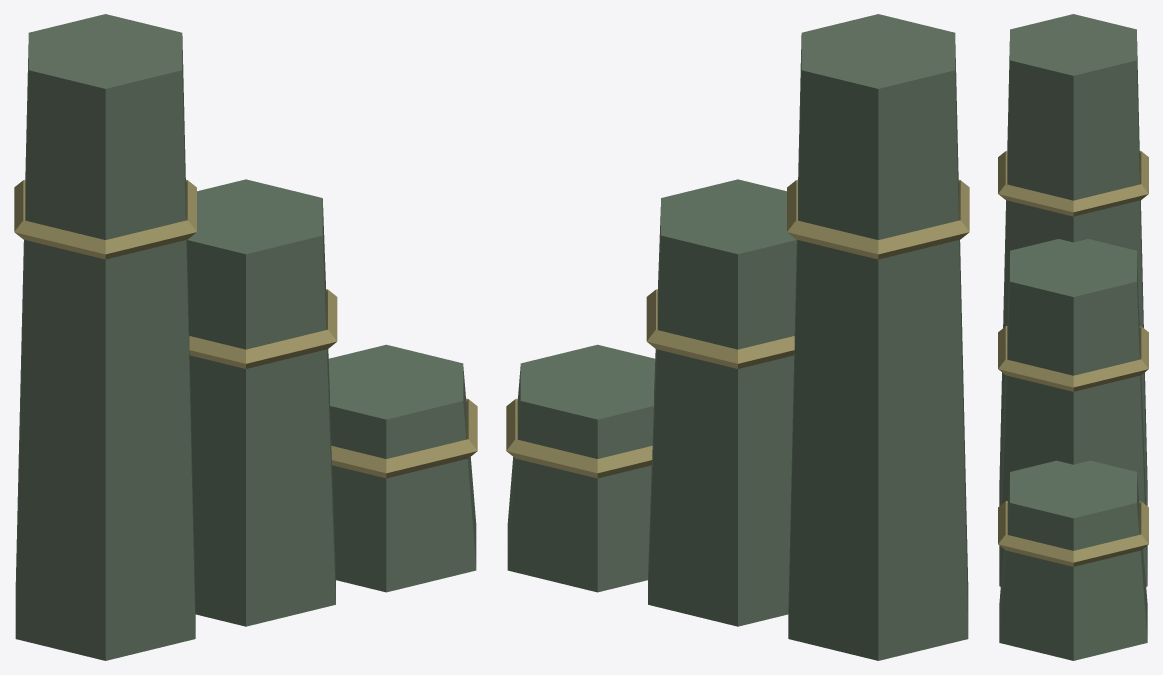
File: map-boundaries-v5__ruins_10.glb
3 views of the same model, side by side, from view 1: azimuth 30°, elevation 25°; view 2: azimuth 150°, elevation 25°; view 3: azimuth 270°, elevation 25° (orthographic). The views are drawn at different scales.
Visible parts, largest first — view 1: ruins_10; view 2: ruins_10; view 3: ruins_10.
Boxes of the visible parts, <box> form: ruins_10: <box>14,14,477,660</box>; ruins_10: <box>506,14,969,660</box>; ruins_10: <box>998,14,1148,660</box>.
Bounding box in the file's own units: 1.75 × 2.04 × 0.5976.
